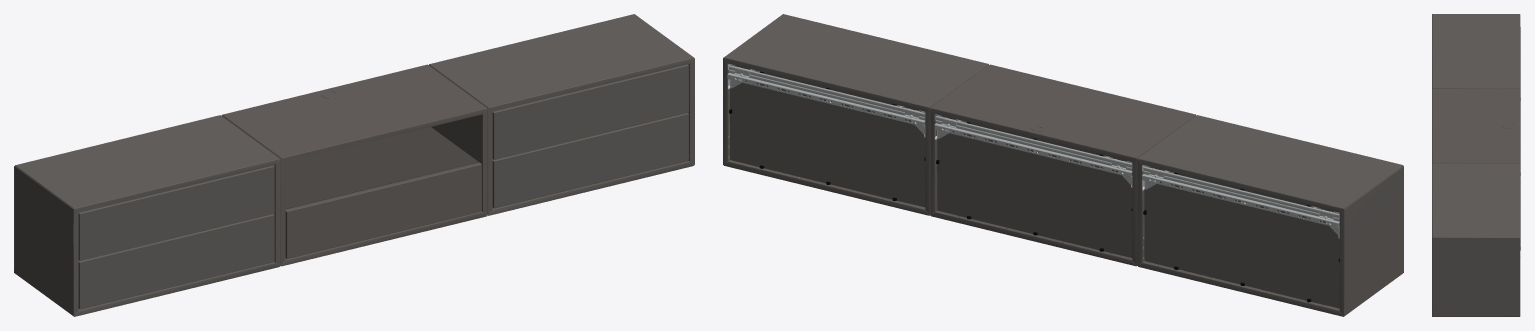
Rendered from eket_szafka_na_tv_hifi_89580982.glb.
3 views of the same model, side by side, from view 1: azimuth 30°, elevation 25°; view 2: azimuth 150°, elevation 25°; view 3: azimuth 270°, elevation 25° (orthographic). The views are drawn at different scales.
Parts seen in each view (by area): view 1: eket_szafka_na_tv_hifi_89580982; view 2: eket_szafka_na_tv_hifi_89580982; view 3: eket_szafka_na_tv_hifi_89580982.
Boxes of the visible parts, x1,y1,x2,y2 form: eket_szafka_na_tv_hifi_89580982: [14, 14, 694, 316]; eket_szafka_na_tv_hifi_89580982: [723, 14, 1403, 316]; eket_szafka_na_tv_hifi_89580982: [1432, 14, 1520, 316].
Size of the model in its own units: 2.1 by 0.3509 by 0.353.
7 materials, 5 textured.
